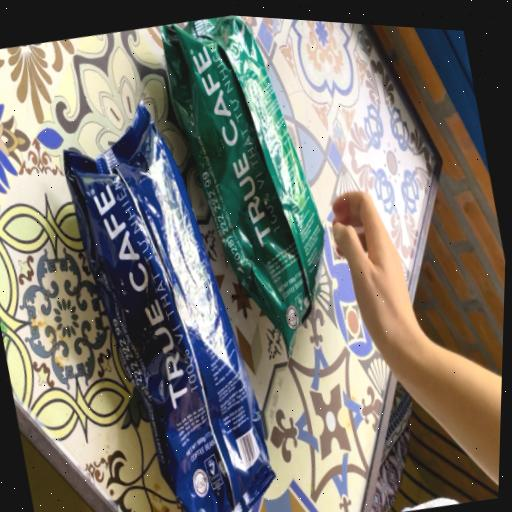cafe_hat: (63, 102, 274, 512)
cafe_xay: (160, 15, 322, 351)
